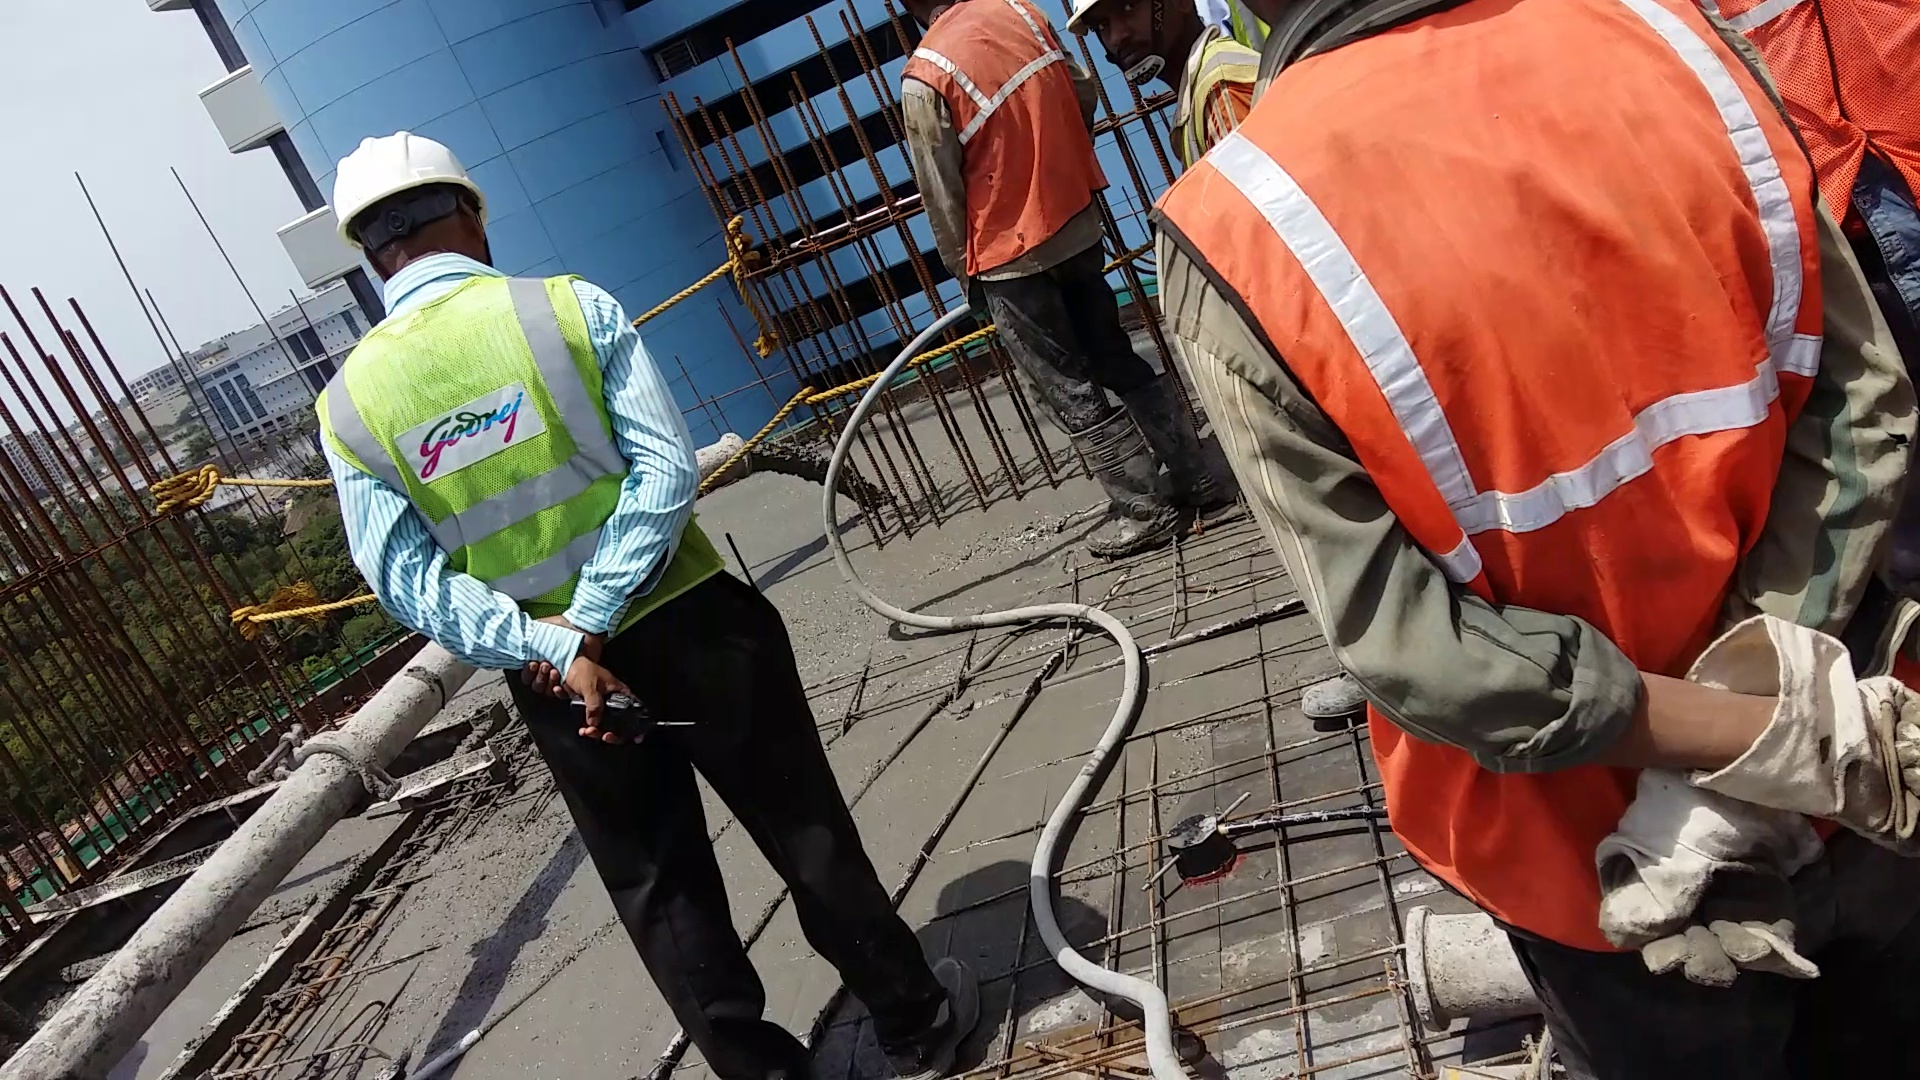SAFE: (335, 131, 600, 691)
